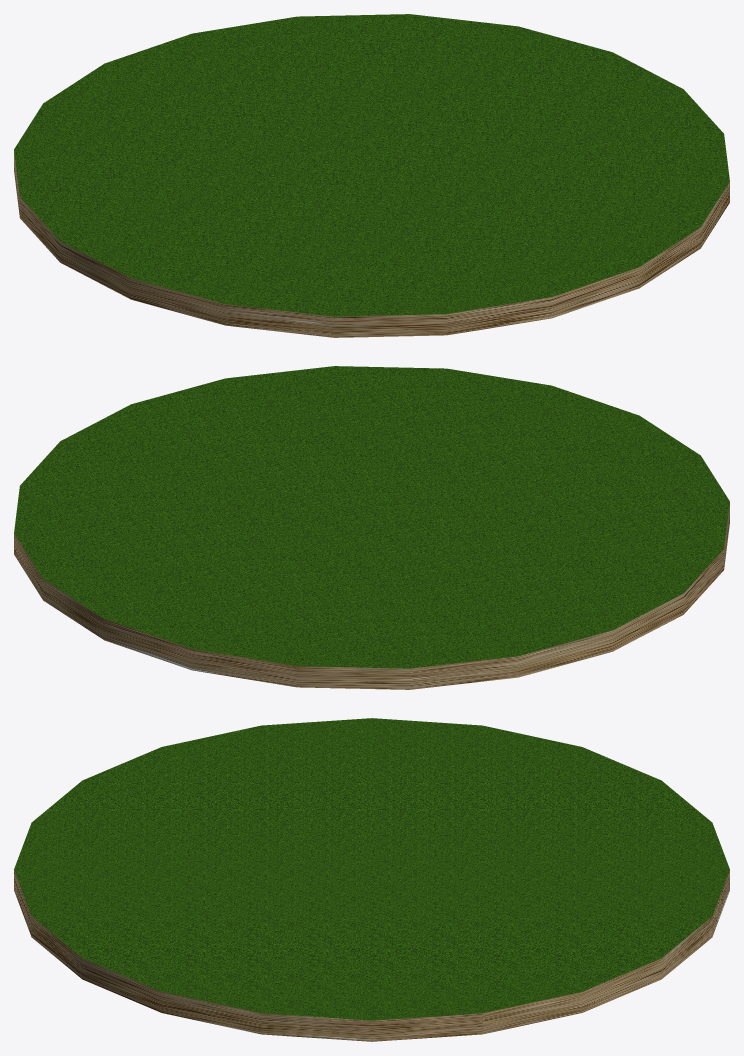
Rendered from Ground_Stage_2.obj.
3 renders of one model, top to bottom at view 1: azimuth 30°, elevation 25°; view 2: azimuth 150°, elevation 25°; view 3: azimuth 270°, elevation 25°, orthographic.
Visible parts, largest first — view 1: Ground_Stage_2; view 2: Ground_Stage_2; view 3: Ground_Stage_2.
Boxes of the visible parts, box(x1,y1,x2,y2) form: Ground_Stage_2: box(14, 14, 729, 337); Ground_Stage_2: box(14, 366, 729, 689); Ground_Stage_2: box(14, 718, 729, 1041).
Size of the model in its own units: 30.69 by 1 by 30.69.
2 materials, 2 textured.
